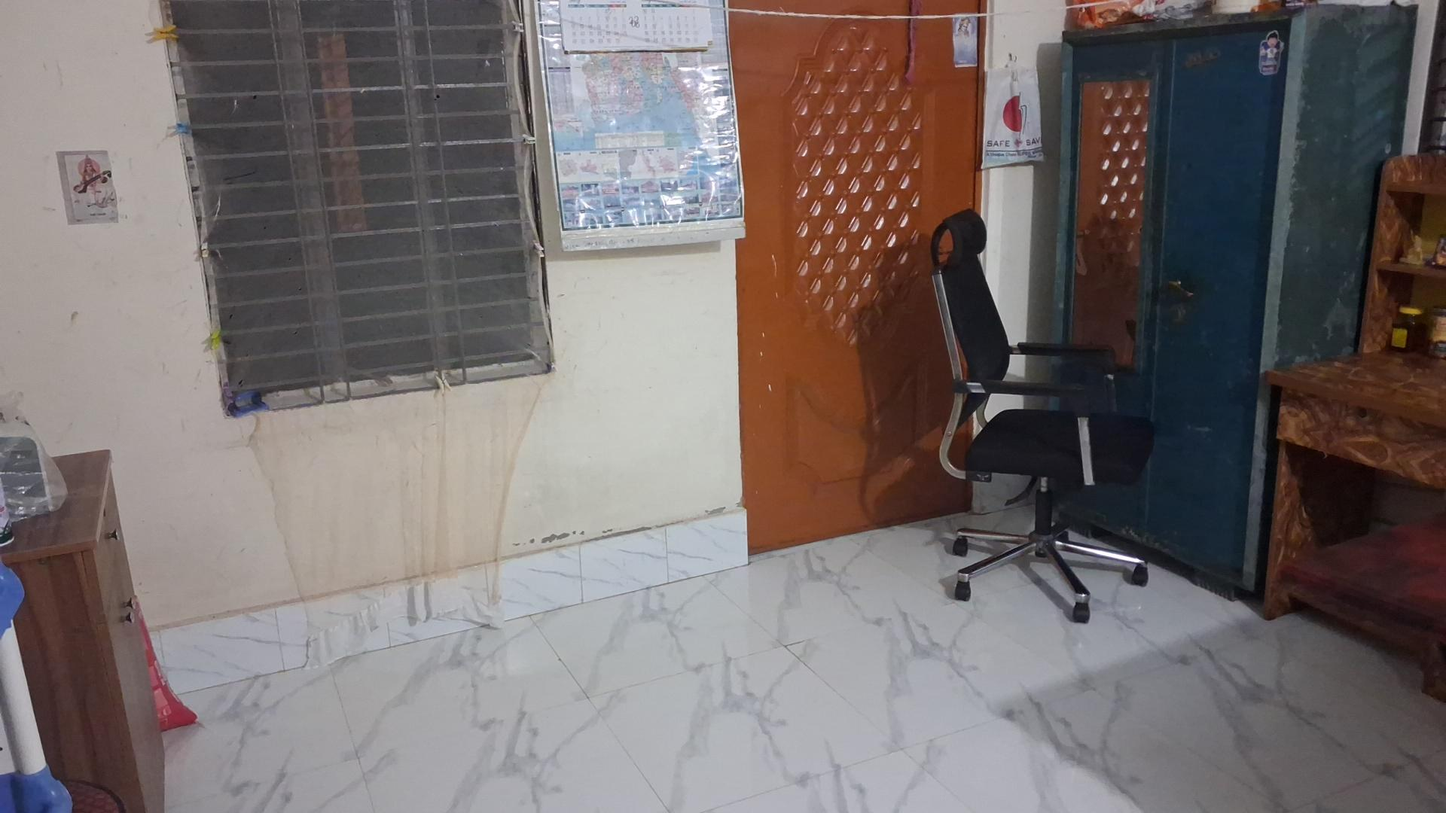Bag: (982, 75, 1041, 170)
Chair: (932, 211, 1154, 624)
Door: (712, 5, 1005, 554)
Jar: (1389, 303, 1422, 352)
Photo: (56, 146, 116, 231), (943, 15, 976, 72), (1255, 33, 1288, 81)
Window: (149, 5, 572, 410)
